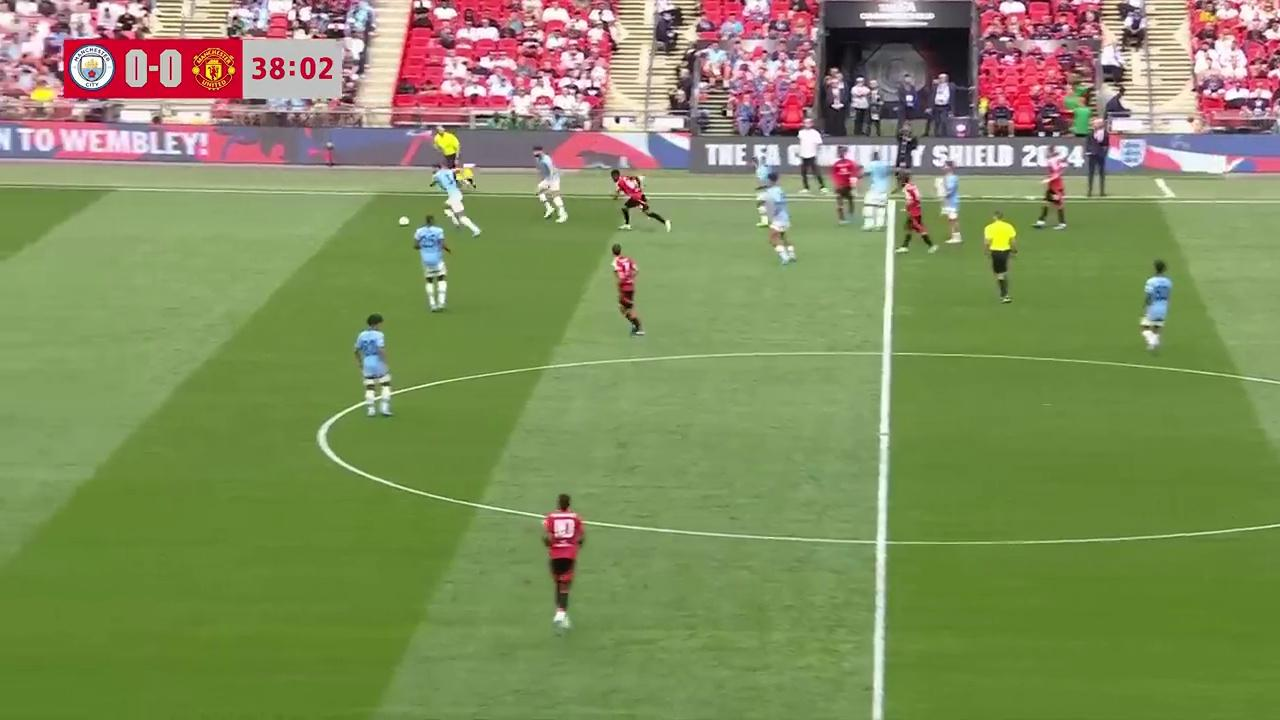ball: (396, 213, 410, 226)
player: (540, 492, 586, 631), (352, 314, 394, 417), (410, 211, 452, 312), (425, 166, 479, 240), (610, 169, 667, 230), (982, 210, 1018, 303), (894, 176, 936, 254), (1140, 258, 1173, 350), (611, 243, 642, 335), (762, 184, 796, 263), (535, 148, 567, 222), (1034, 162, 1068, 230), (749, 153, 781, 224), (755, 175, 792, 234), (935, 166, 962, 246), (833, 152, 863, 222), (859, 173, 891, 235)
referee: (982, 210, 1019, 303), (435, 126, 461, 182)
